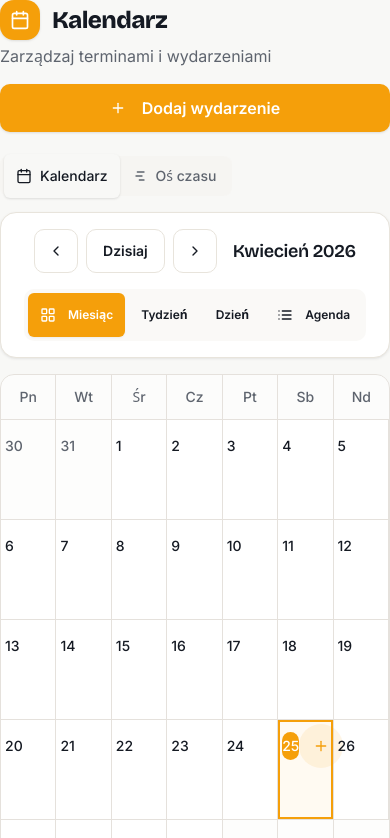
Test case: Calendar › [REGRESSION] month view day-cell two-step activation › should open dialog on second click on an already-selected day
The width and height of the screenshot is (390, 838).
// First click — select
Click the 1st cell "30": click(29, 470) 1,420 -> 56,520
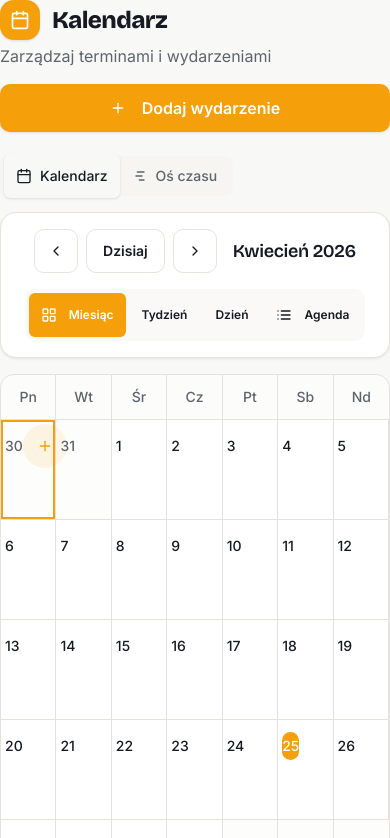
Expected: the 1st cell "30" is selected
// Second click on the same cell — open dialog
Click the 1st cell "30": click(29, 470) 1,420 -> 56,520
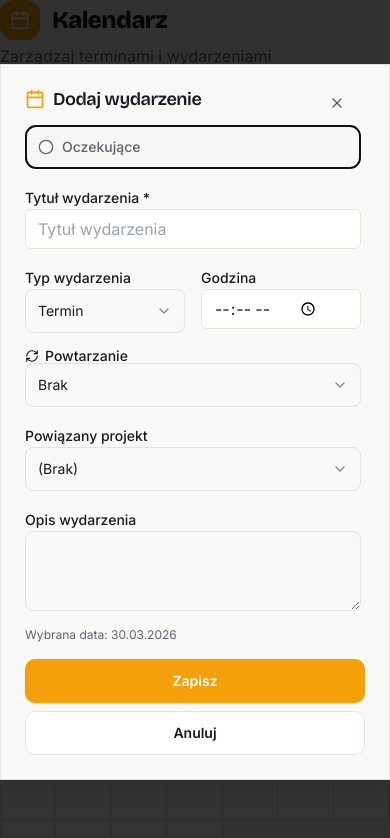
Expected: the dialog is shown
